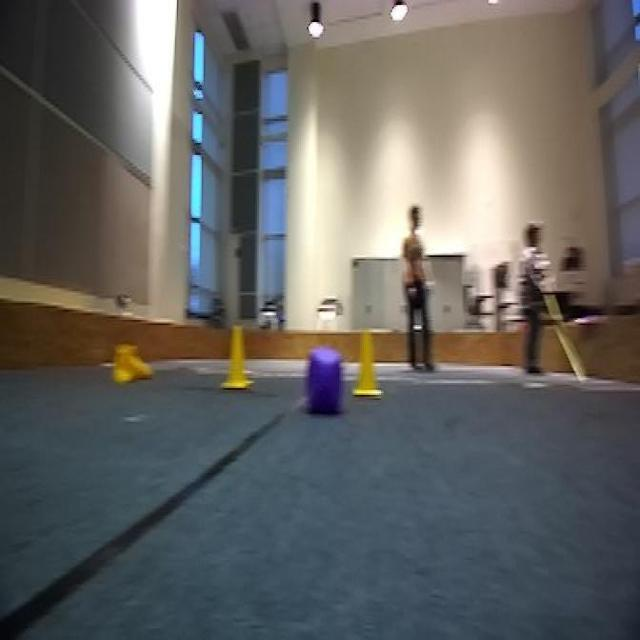frc_cone: (216, 323, 256, 388), (110, 337, 154, 386), (351, 331, 381, 398)
frc_cube: (306, 349, 346, 414)
